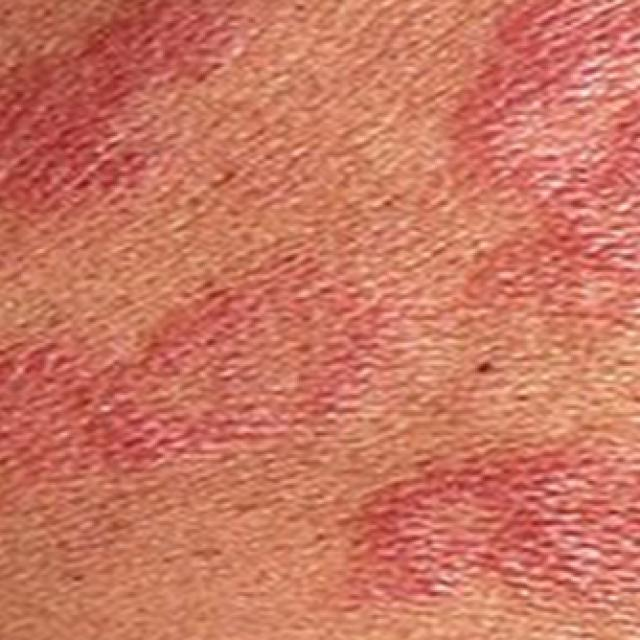Leprosy: (462, 0, 640, 333), (1, 0, 262, 224), (328, 440, 640, 615)
